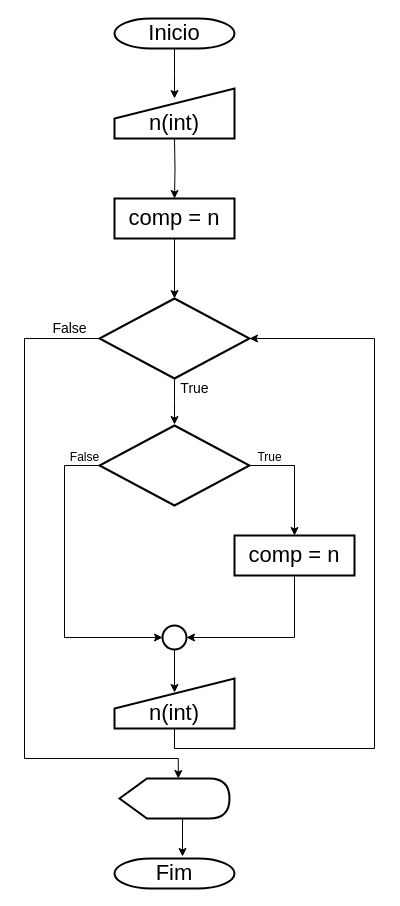
Image size: 400x906. Some labels were removed from this diagram. The centre of each missing label's shape, as x and y in pixels:
"comp" belongs at [174,798].
"n > comp" belongs at [174,465].
"n >= 0" belongs at [174,338].
